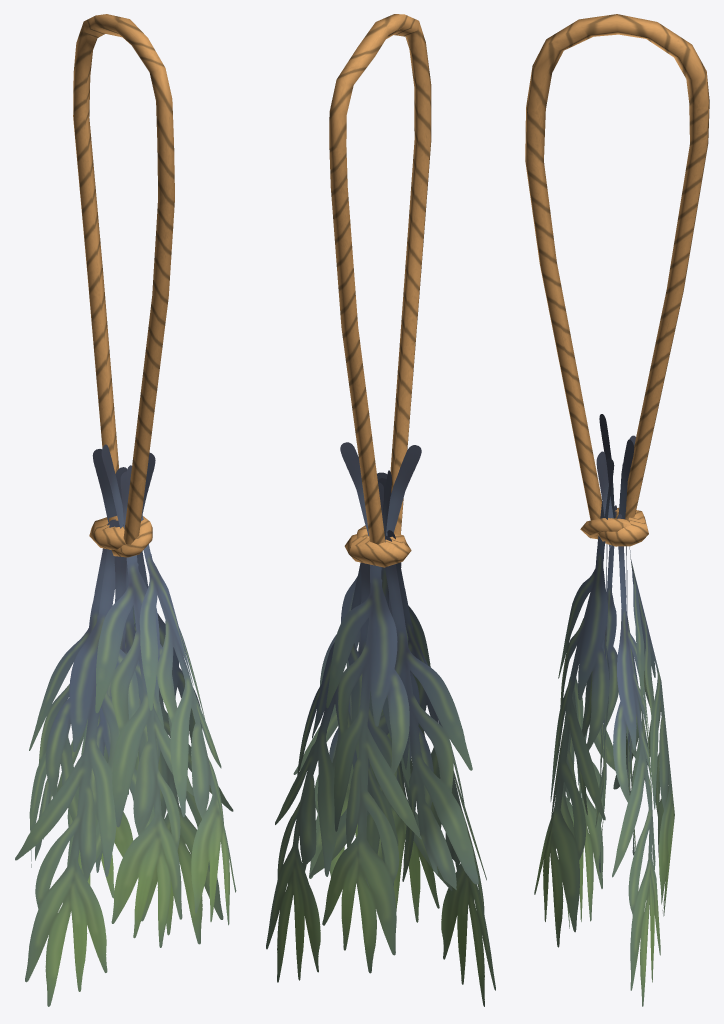
Rendered from SM_Potion_Props_Herb_Broom_Ceiling_02.fbx.
The picture shows the model from 3 angles, left to right: view 1: azimuth 30°, elevation 25°; view 2: azimuth 150°, elevation 25°; view 3: azimuth 270°, elevation 25°; orthographic projection. The views are drawn at different scales.
Visible parts, largest first — view 1: SM_Potion_Props_Herb_Broom_Ceiling_02_LOD0; view 2: SM_Potion_Props_Herb_Broom_Ceiling_02_LOD0; view 3: SM_Potion_Props_Herb_Broom_Ceiling_02_LOD0.
Boxes of the visible parts, <box> form: SM_Potion_Props_Herb_Broom_Ceiling_02_LOD0: <box>15,14,236,1006</box>; SM_Potion_Props_Herb_Broom_Ceiling_02_LOD0: <box>266,14,495,1006</box>; SM_Potion_Props_Herb_Broom_Ceiling_02_LOD0: <box>525,14,709,1006</box>.
Size of what is drawn, in the model's own units: 22.48 by 95.9 by 16.86.
